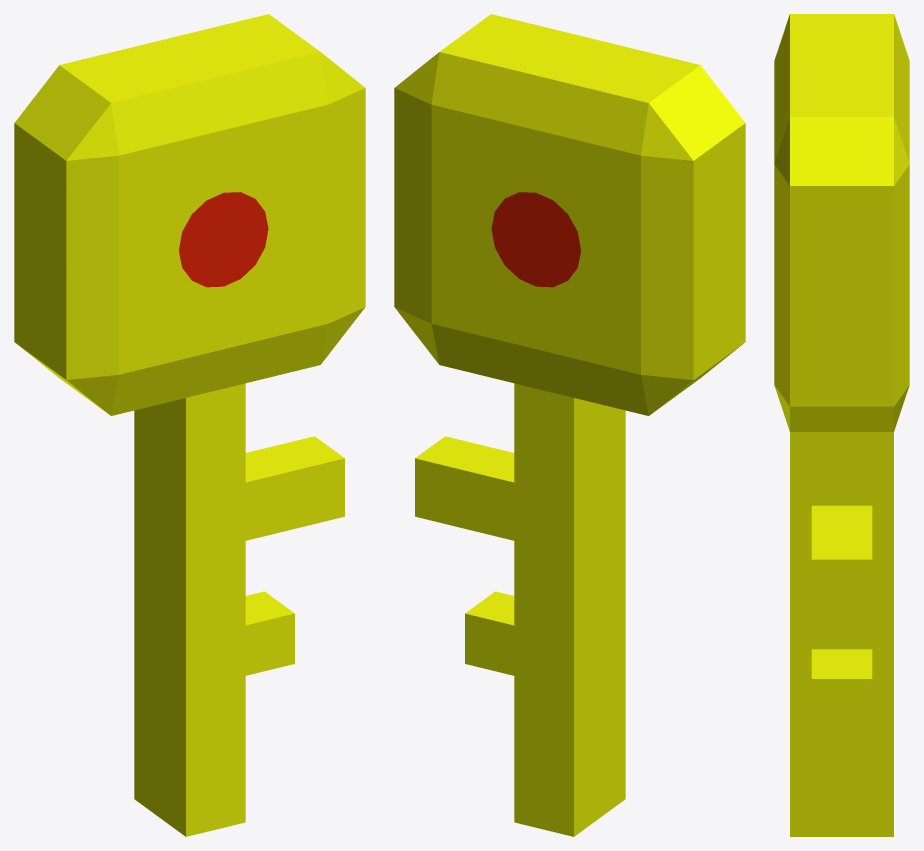
Rendered from key.fbx.
3 views of the same model, side by side, from view 1: azimuth 30°, elevation 25°; view 2: azimuth 150°, elevation 25°; view 3: azimuth 270°, elevation 25° (orthographic).
Visible parts, largest first — view 1: Cube; view 2: Cube; view 3: Cube.
Part boxes in pixels (x1=…): Cube: x1=14, y1=14, x2=365, y2=836; Cube: x1=394, y1=14, x2=745, y2=836; Cube: x1=774, y1=14, x2=909, y2=836.
Size of the model in its own units: 2 by 4.8 by 0.78.
